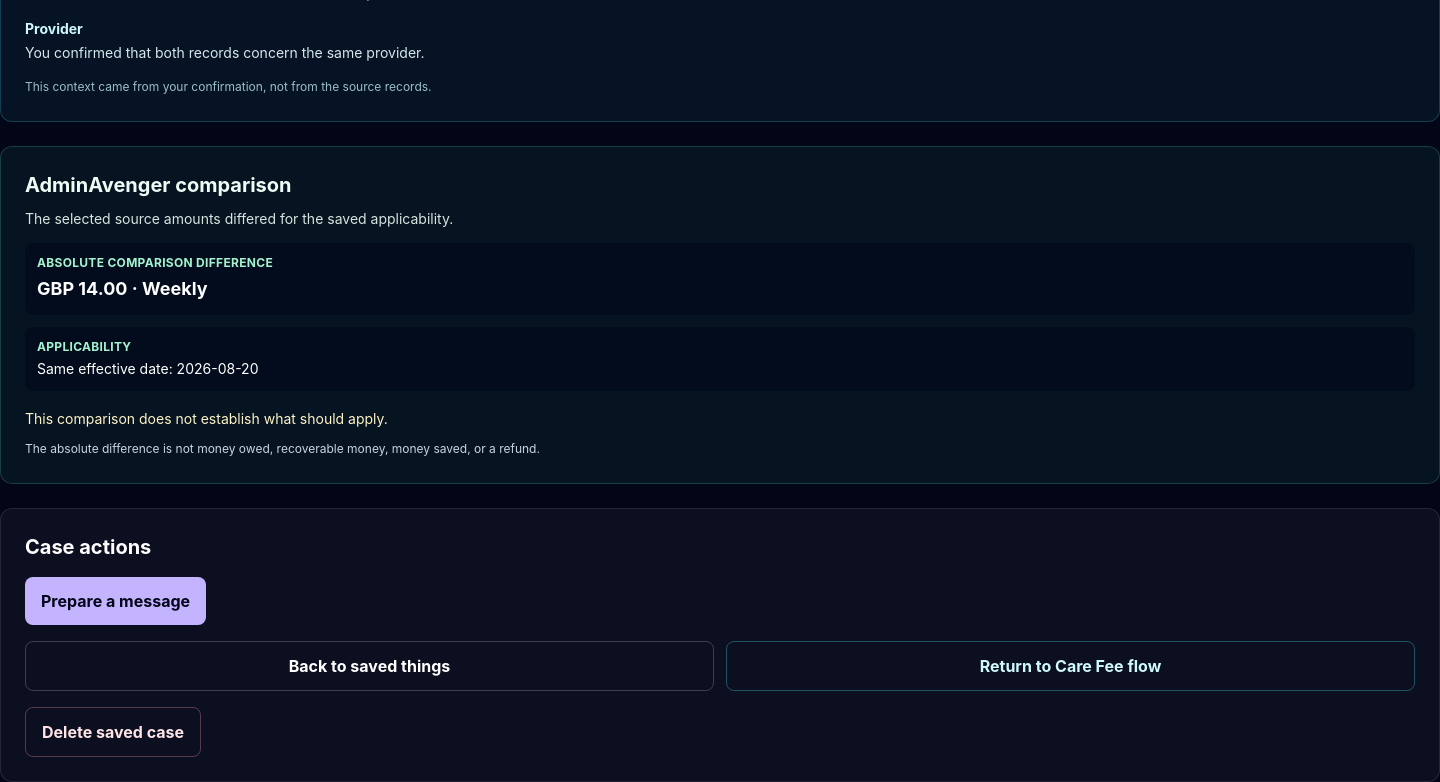
Test case: CareFeeComparisonCaseView › requires explicit confirmation before deletion and reports failure
(page scrolled)
What coordinates should you click on to do the following:
click the button "Delete saved case"
I would click on:
 (113, 732)
Its box is [25,707,201,757].
(page scrolled)
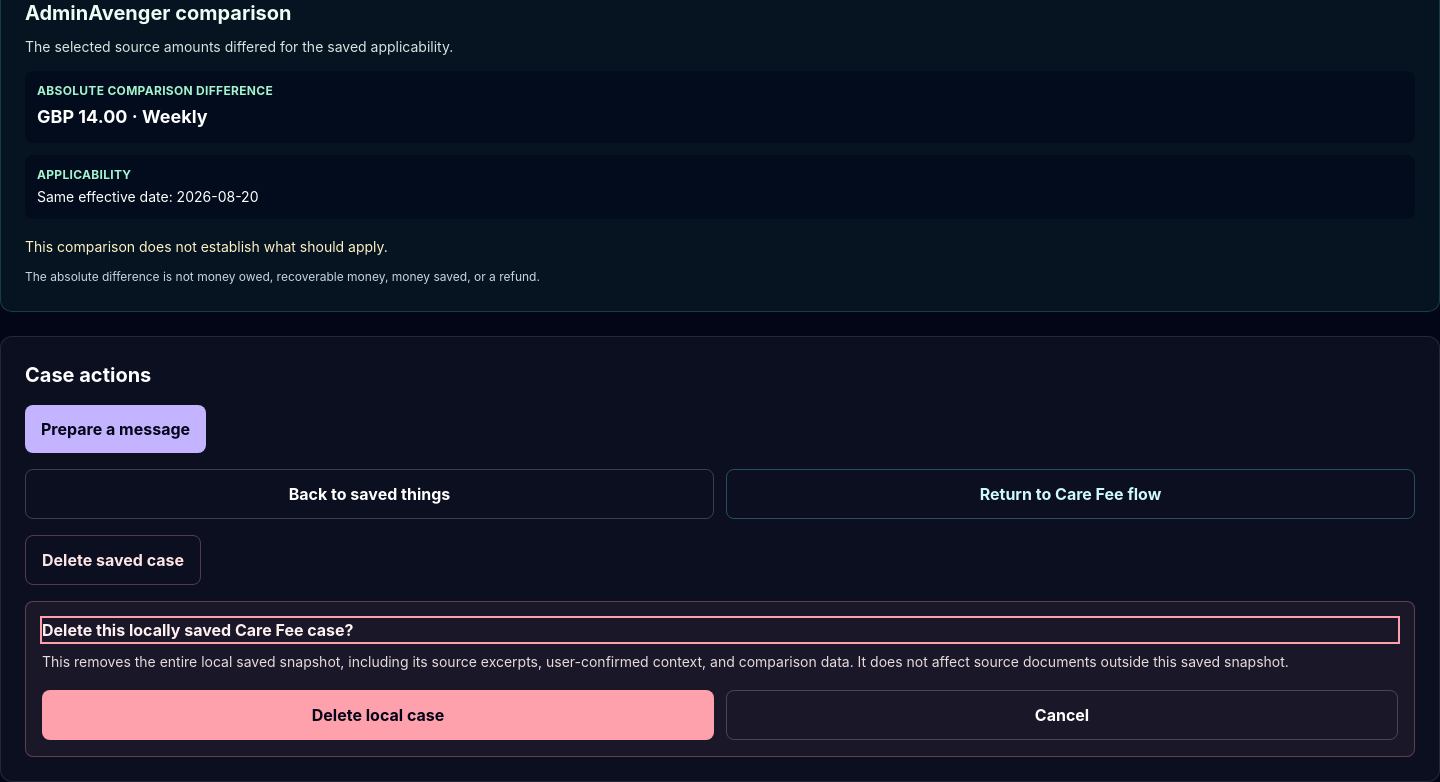
Now the text "entire local saved snapshot" is shown, box [42,653,1289,670]
What coordinates should you click on to do the following:
click the button "Delete local case"
I would click on:
 (378, 715)
Its box is [42,690,714,740].
(page scrolled)
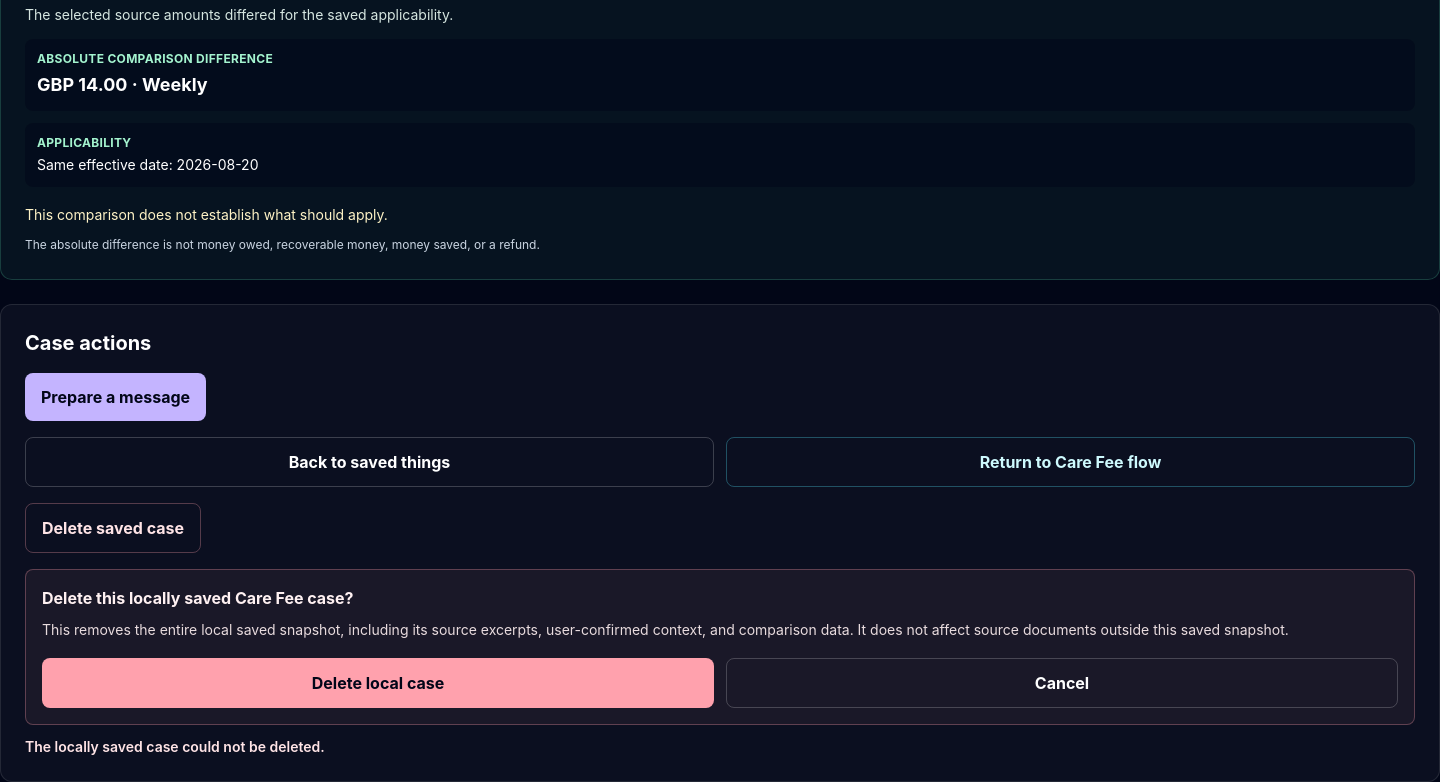
Now the message shows "could not be deleted", box [25,738,325,755]
